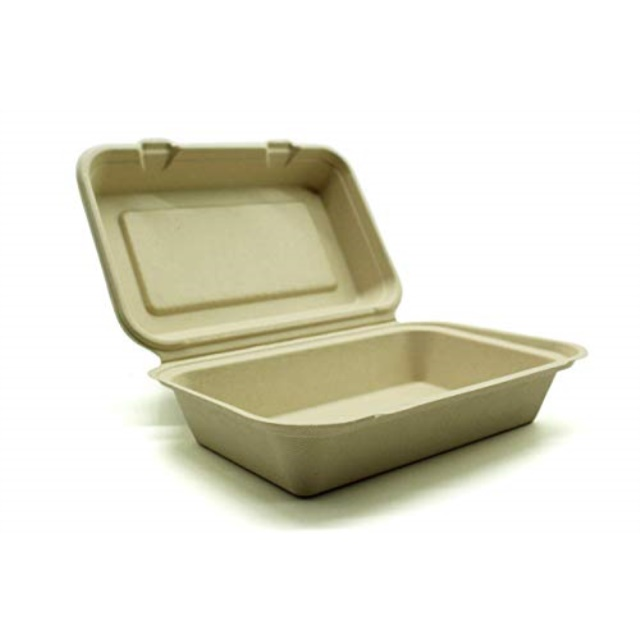styrofoam: (73, 135, 593, 503)
